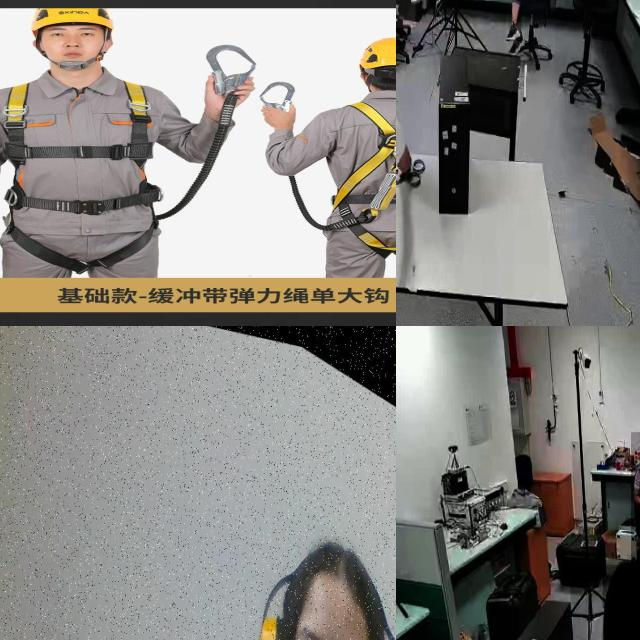Ear-protection: (243, 579, 303, 640)
Harness: (0, 81, 151, 271), (340, 97, 396, 250), (204, 42, 257, 102), (258, 80, 300, 116)
No_Glasses: (47, 28, 99, 40)
head_nohelmet: (602, 559, 640, 609)
person: (506, 0, 556, 61)
shoes: (508, 24, 526, 59), (506, 21, 522, 44)
